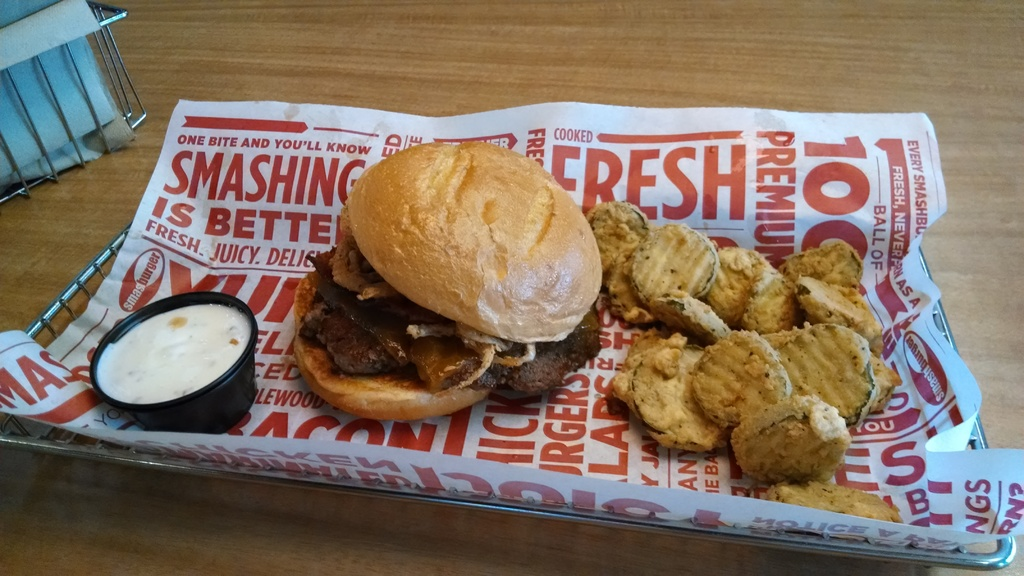Hamburger: (293, 143, 603, 424)
